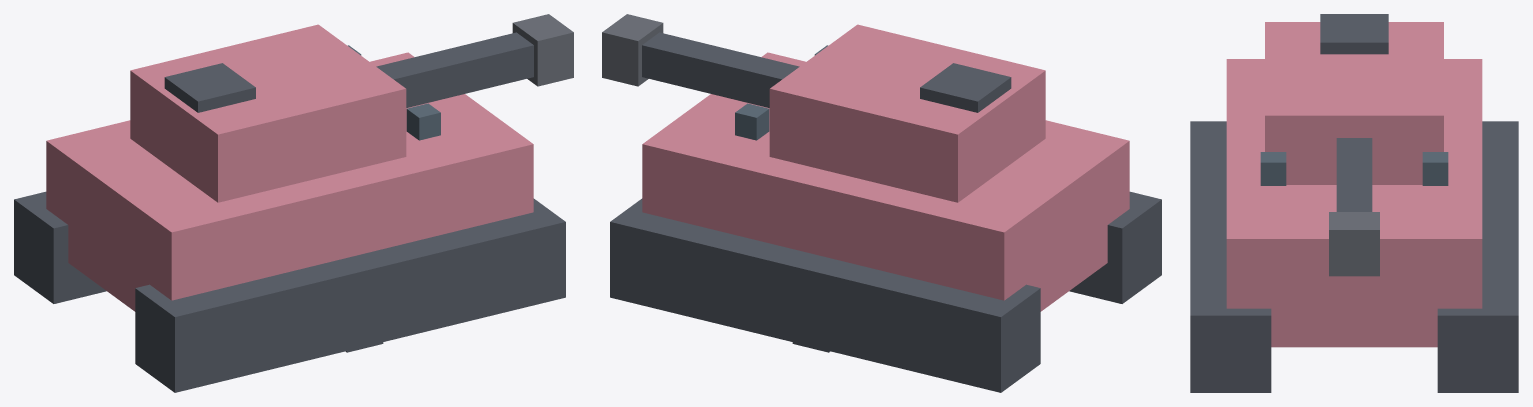
Rendered from tank_sell.glb.
3 renders of one model, left to right at view 1: azimuth 30°, elevation 25°; view 2: azimuth 150°, elevation 25°; view 3: azimuth 270°, elevation 25°, orthographic.
Visible parts, largest first — view 1: body, gun; view 2: body, gun; view 3: body, gun.
Boxes of the visible parts, left/top/right/bottom form: body: left=14, top=24, right=565, bottom=392; gun: left=376, top=14, right=573, bottom=107; body: left=610, top=24, right=1161, bottom=392; gun: left=602, top=14, right=799, bottom=107; body: left=1190, top=14, right=1518, bottom=392; gun: left=1329, top=138, right=1379, bottom=276.
Size of the model in its own units: 6.45 by 3.04 by 3.85.
